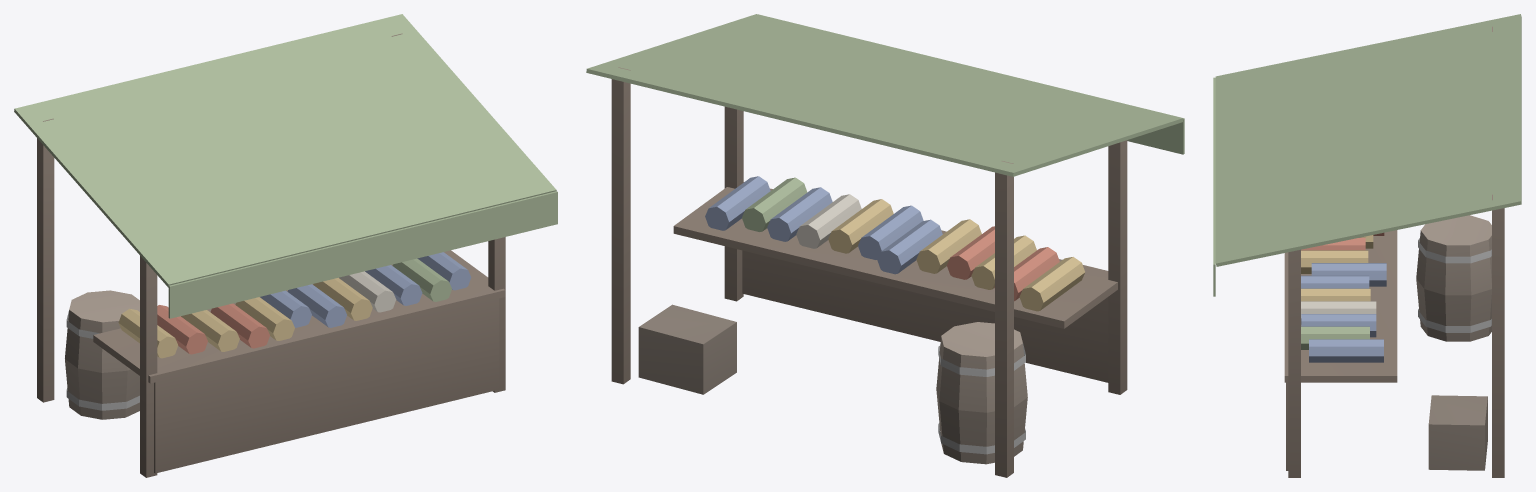
The model's file is stall_0.glb.
3 views of the same model, side by side, from view 1: azimuth 30°, elevation 25°; view 2: azimuth 150°, elevation 25°; view 3: azimuth 270°, elevation 25° (orthographic). The views are drawn at different scales.
Parts seen in each view (by area): view 1: stall_0; view 2: stall_0; view 3: stall_0.
Part boxes in pixels (left/top/right/bottom): stall_0: left=14, top=14, right=557, bottom=477; stall_0: left=586, top=14, right=1184, bottom=477; stall_0: left=1213, top=14, right=1521, bottom=477.
Size of the model in its own units: 3.54 by 2.5 by 2.46.
